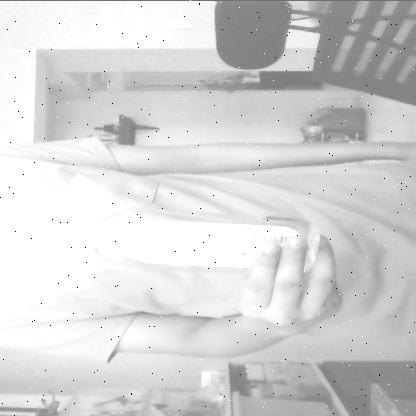Plastic Bottle: (52, 207, 324, 278)
